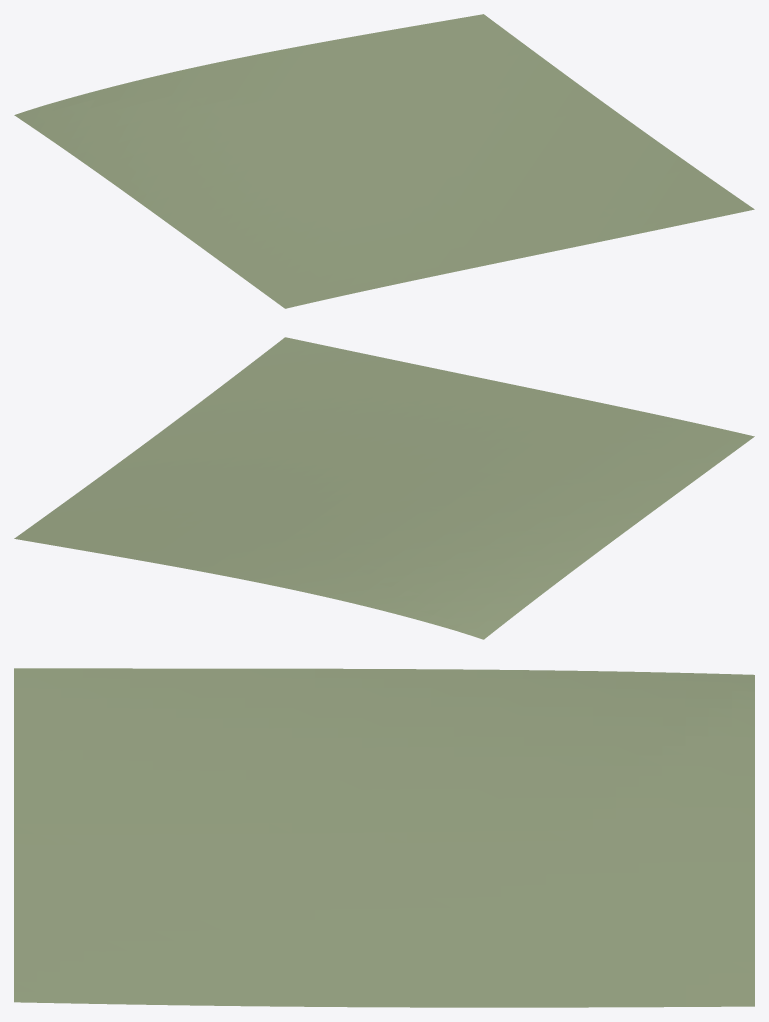
File: expanse-7-27.glb
The picture shows the model from 3 angles, top to bottom: view 1: azimuth 30°, elevation 25°; view 2: azimuth 150°, elevation 25°; view 3: azimuth 270°, elevation 25°; orthographic projection. The views are drawn at different scales.
Visible parts, largest first — view 1: expanse-7-27; view 2: expanse-7-27; view 3: expanse-7-27.
Boxes of the visible parts, box(x1,y1,x2,y2) form: expanse-7-27: box(14, 14, 754, 308); expanse-7-27: box(14, 337, 754, 639); expanse-7-27: box(14, 668, 754, 1007).
Bounding box in the file's own units: 256 × 10.33 × 256.
